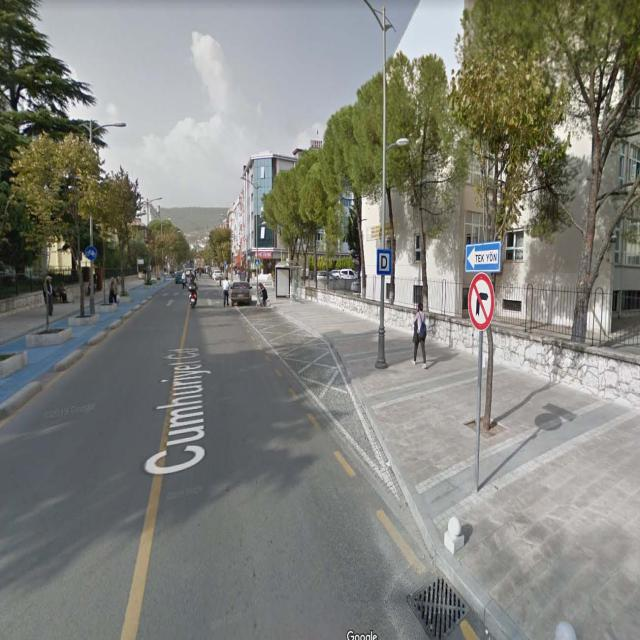durak: (376, 249, 392, 275)
sagadonulmez: (468, 274, 494, 331)
